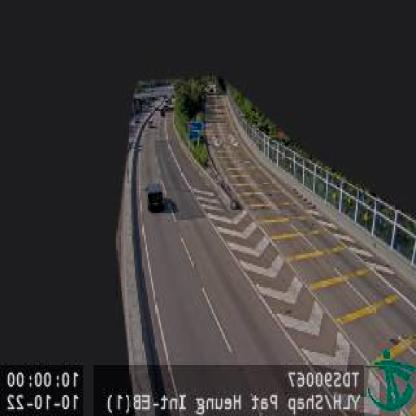Car: (146, 183, 162, 212)
